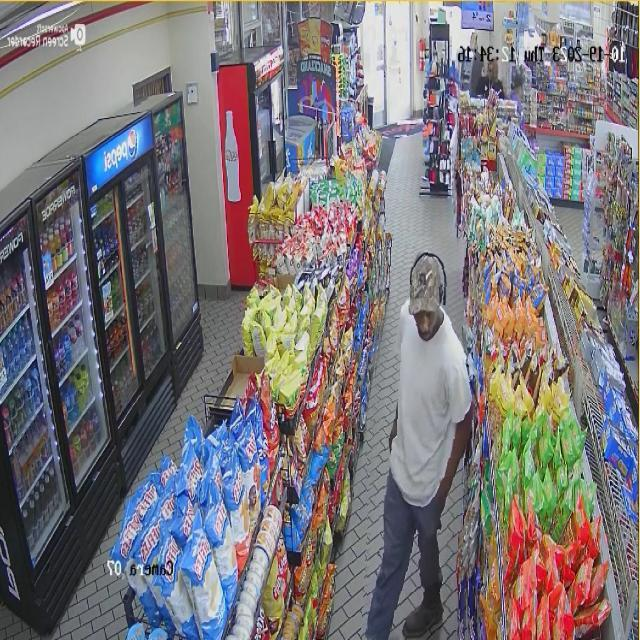Normal: (367, 234, 481, 640)
